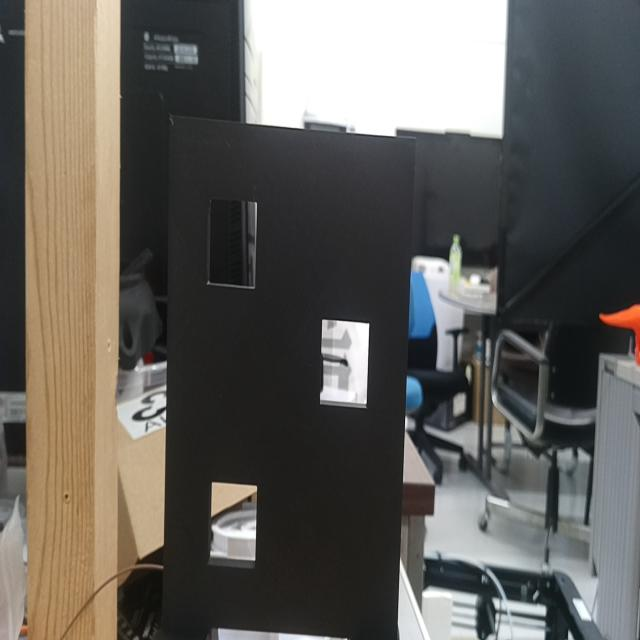Obstacle: (319, 318, 370, 410), (207, 198, 257, 291), (209, 480, 258, 566)
Wall: (162, 114, 415, 639)
